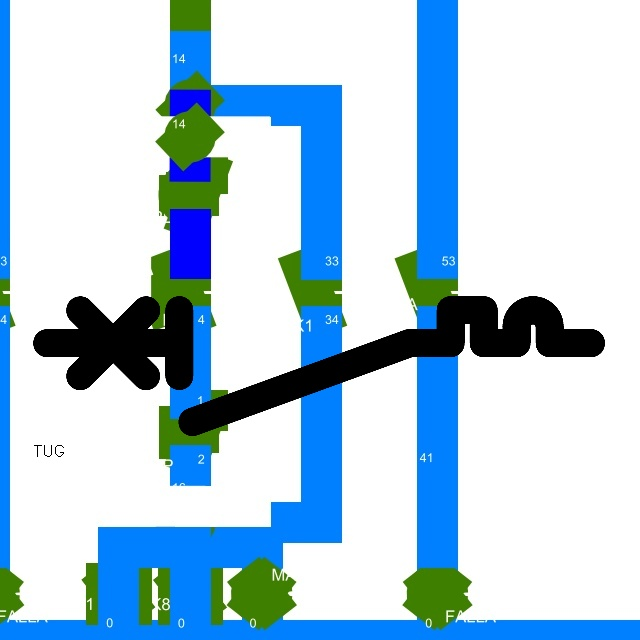interruptor_termomagnetico: (33, 296, 605, 436)
